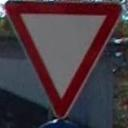preferencia: (2, 0, 124, 120)
